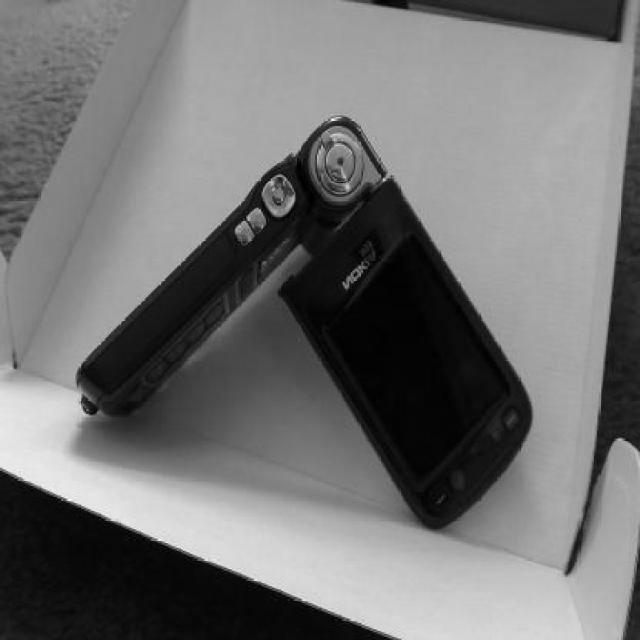fake: (94, 84, 544, 533)
